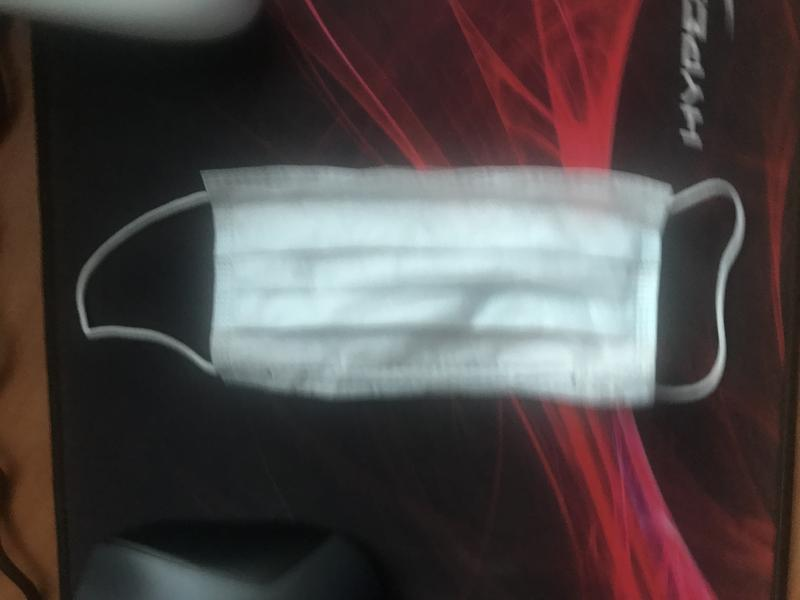medical_mask: (76, 165, 741, 408)
